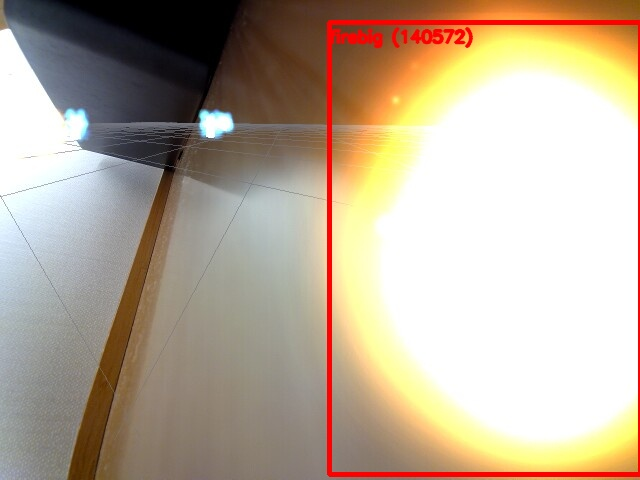firebig: (329, 22, 640, 474)
